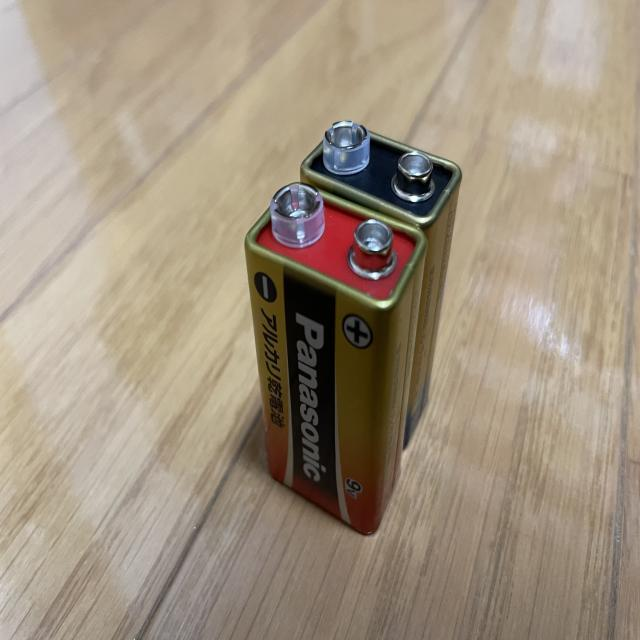9V: (243, 180, 429, 538), (299, 120, 462, 448)
